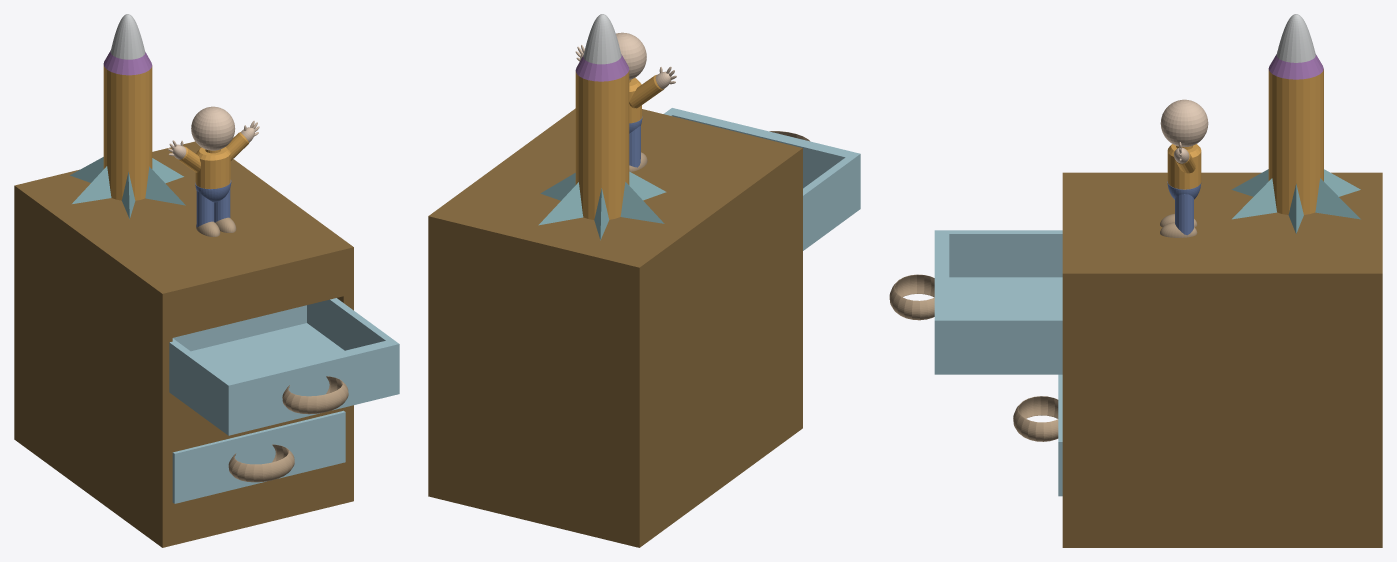
File: project 149.glb
3 renders of one model, left to right at view 1: azimuth 30°, elevation 25°; view 2: azimuth 150°, elevation 25°; view 3: azimuth 270°, elevation 25°, orthographic. The views are drawn at different scales.
Parts seen in each view (by area): view 1: Mesh_Mesh_head_geo.001_lambert2SG.001; view 2: Mesh_Mesh_head_geo.001_lambert2SG.001; view 3: Mesh_Mesh_head_geo.001_lambert2SG.001.
Boxes of the visible parts, x1,y1,x2,y2 form: Mesh_Mesh_head_geo.001_lambert2SG.001: (14,14,399,547); Mesh_Mesh_head_geo.001_lambert2SG.001: (428,14,860,547); Mesh_Mesh_head_geo.001_lambert2SG.001: (889,14,1382,547).
Size of the model in its own units: 56 by 122 by 116.
